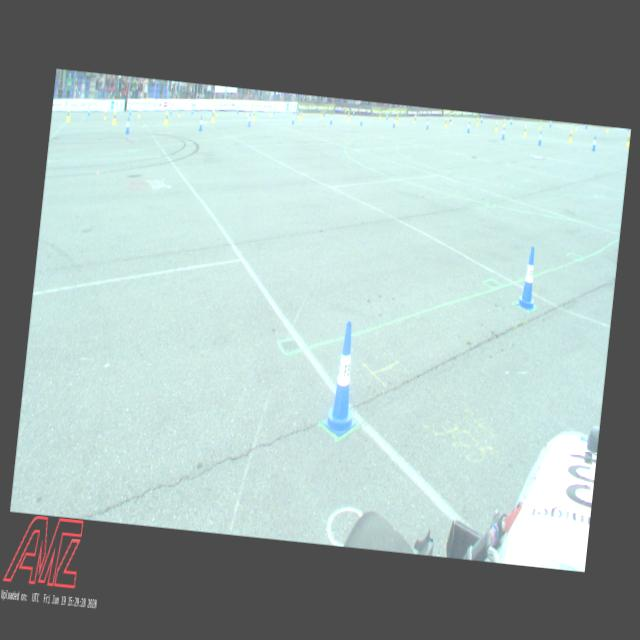blue_cone: (322, 318, 366, 436), (516, 245, 540, 311), (124, 118, 130, 134), (591, 134, 597, 150), (500, 126, 506, 140), (198, 115, 203, 131), (538, 130, 542, 146), (247, 112, 251, 126), (466, 120, 470, 133), (291, 112, 295, 124), (392, 116, 396, 128), (329, 112, 333, 124), (425, 118, 429, 129), (86, 106, 90, 116), (128, 106, 132, 115), (448, 114, 452, 122), (548, 120, 552, 127), (360, 115, 362, 125), (272, 105, 274, 114), (191, 106, 193, 115), (510, 116, 512, 124), (386, 112, 388, 120), (414, 112, 416, 120), (212, 106, 214, 114), (170, 106, 172, 114), (236, 106, 238, 113), (323, 109, 325, 116), (296, 108, 298, 115), (480, 116, 482, 122), (352, 110, 354, 116), (584, 124, 586, 128)
yellow_cone: (164, 110, 169, 125), (626, 132, 630, 146), (112, 111, 116, 124), (568, 129, 572, 142), (523, 125, 527, 137), (66, 108, 70, 120), (494, 120, 498, 132), (443, 117, 447, 128), (210, 111, 214, 122), (412, 114, 416, 123), (299, 110, 302, 120), (347, 112, 350, 122), (252, 110, 255, 120), (538, 120, 541, 128), (246, 108, 249, 116), (215, 108, 218, 115), (396, 114, 398, 124), (104, 110, 106, 120), (270, 107, 272, 116), (476, 116, 478, 125), (605, 126, 608, 132), (502, 118, 504, 126), (320, 110, 322, 118), (574, 122, 576, 130), (450, 118, 452, 126), (344, 110, 346, 118), (138, 108, 140, 116), (297, 110, 299, 118), (379, 111, 381, 118), (178, 108, 180, 115)
